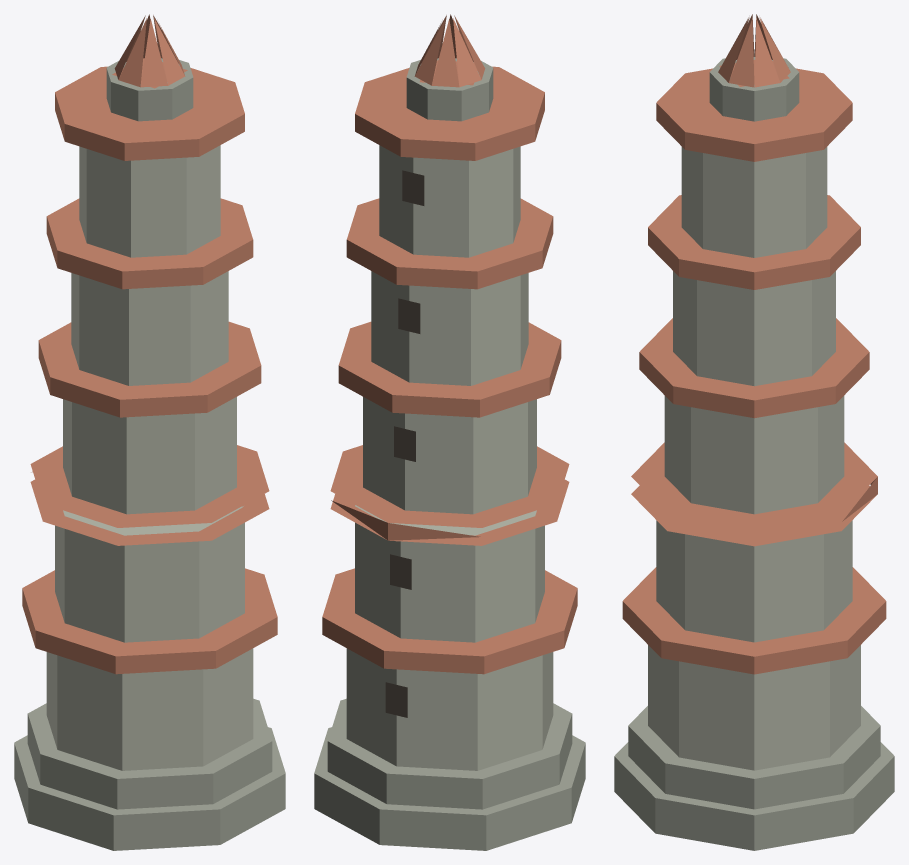
File: loc_qz_bld_beacon.glb
The picture shows the model from 3 angles, left to right: view 1: azimuth 30°, elevation 25°; view 2: azimuth 150°, elevation 25°; view 3: azimuth 270°, elevation 25°; orthographic projection.
Parts seen in each view (by area): view 1: loc_qz_bld_beacon; view 2: loc_qz_bld_beacon; view 3: loc_qz_bld_beacon.
Boxes of the visible parts, x1,y1,x2,y2 form: loc_qz_bld_beacon: (14, 14, 285, 850); loc_qz_bld_beacon: (314, 14, 585, 850); loc_qz_bld_beacon: (614, 14, 894, 850).
Bounding box in the file's own units: 1 × 3.05 × 1.
